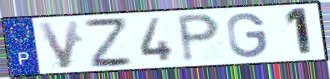1: (283, 6, 315, 59)
4: (137, 16, 177, 64)
G: (225, 11, 269, 60)
P: (175, 12, 223, 64)
V: (36, 18, 83, 71)
Z: (81, 18, 136, 70)
